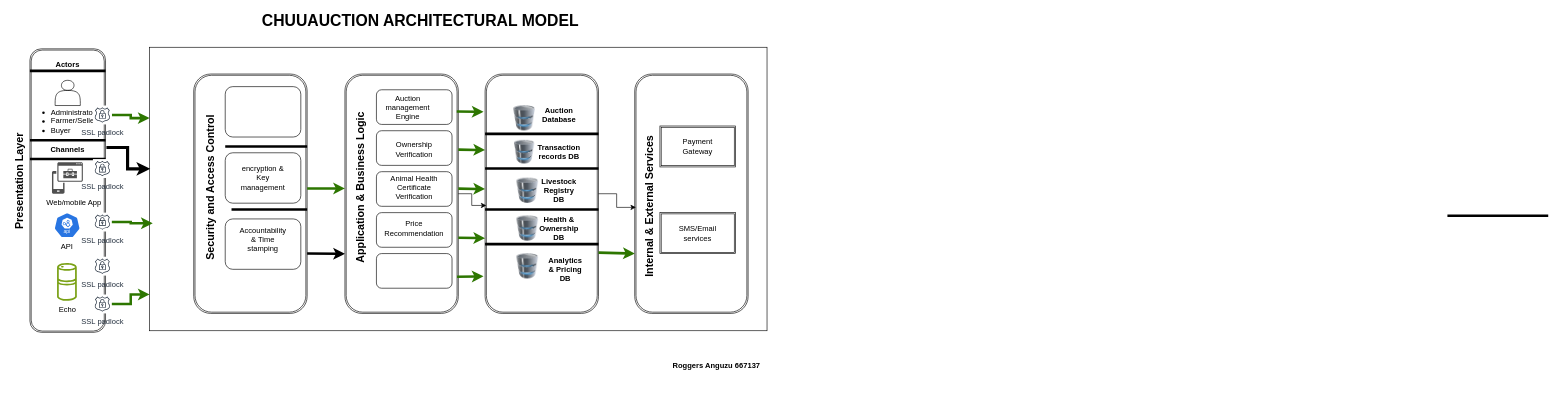
The diagram is 1560 pixels wide and 393 high, and some of its shapes have lost their labels. The centre of each missing label's shape, as x and y in pixels:
"Auction Activation" goes at [414,270].
"authentication & authorization" goes at [263,111].
